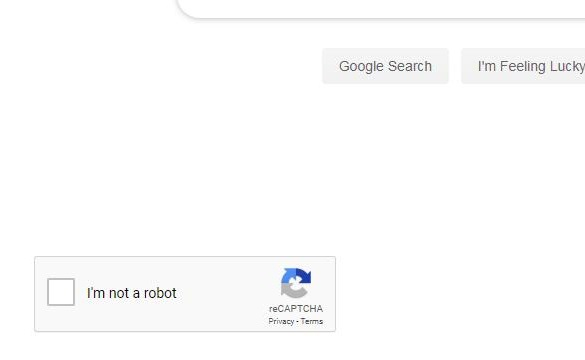captcha: (47, 278, 181, 306)
